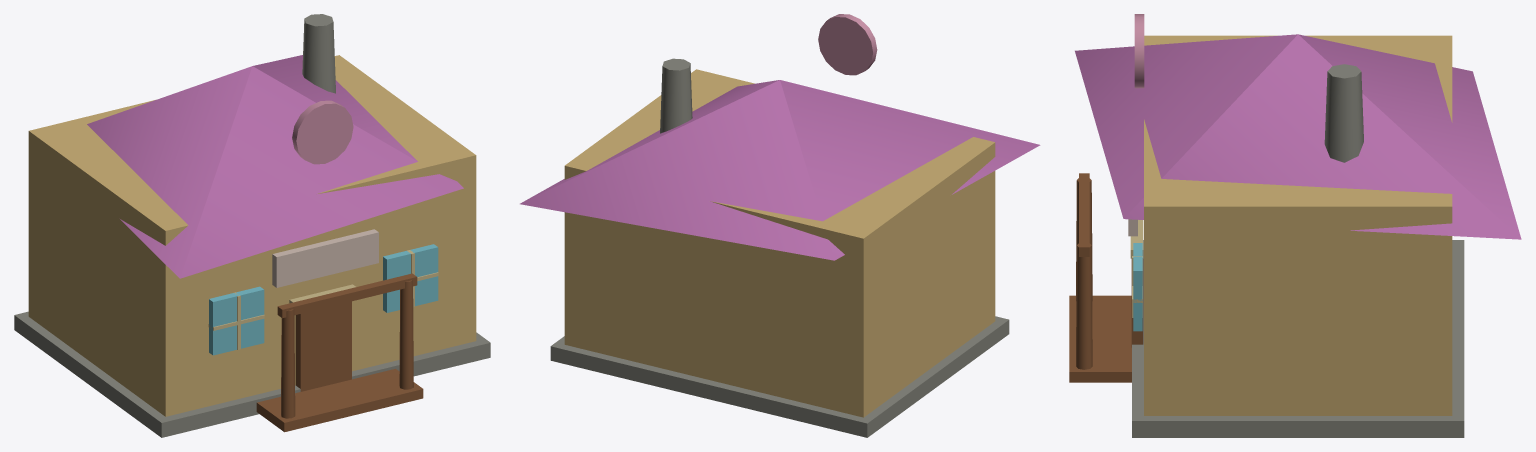
Rendered from town_hall.glb.
3 renders of one model, left to right at view 1: azimuth 30°, elevation 25°; view 2: azimuth 150°, elevation 25°; view 3: azimuth 270°, elevation 25°, orthographic. The views are drawn at different scales.
Visible parts, largest first — view 1: town_hall_body, town_hall_roof, town_hall_foundation, porch, door, sign, clock_or_emblem, window_left, window_right, chimney, porch_beam, porch_post_145 (+1 smaller); view 2: town_hall_body, town_hall_roof, town_hall_foundation, clock_or_emblem, chimney; view 3: town_hall_body, town_hall_roof, town_hall_foundation, porch, chimney, porch_post_145, porch_beam, window_right, clock_or_emblem, porch_post_-145.
Part boxes in pixels (x1=…): town_hall_body: x1=28, y1=55, x2=476, y2=416; town_hall_roof: x1=87, y1=55, x2=463, y2=278; town_hall_foundation: x1=14, y1=311, x2=490, y2=437; porch: x1=256, y1=368, x2=423, y2=432; door: x1=295, y1=301, x2=351, y2=391; sign: x1=272, y1=229, x2=378, y2=287; clock_or_emblem: x1=292, y1=100, x2=353, y2=164; window_left: x1=209, y1=286, x2=264, y2=355; window_right: x1=383, y1=244, x2=438, y2=312; chimney: x1=302, y1=14, x2=335, y2=93; porch_beam: x1=277, y1=273, x2=417, y2=318; porch_post_145: x1=399, y1=280, x2=413, y2=389; town_hall_body: x1=564, y1=69, x2=995, y2=417; town_hall_roof: x1=520, y1=80, x2=1040, y2=260; town_hall_foundation: x1=550, y1=316, x2=1009, y2=437; clock_or_emblem: x1=818, y1=14, x2=877, y2=75; chimney: x1=660, y1=58, x2=692, y2=133; town_hall_body: x1=1144, y1=35, x2=1452, y2=415; town_hall_roof: x1=1075, y1=34, x2=1521, y2=239; town_hall_foundation: x1=1132, y1=240, x2=1464, y2=437; porch: x1=1069, y1=295, x2=1131, y2=382; chimney: x1=1324, y1=64, x2=1363, y2=162; porch_post_145: x1=1076, y1=243, x2=1092, y2=369; porch_beam: x1=1079, y1=173, x2=1089, y2=256; window_right: x1=1133, y1=243, x2=1142, y2=331; clock_or_emblem: x1=1134, y1=14, x2=1144, y2=88; porch_post_-145: x1=1076, y1=178, x2=1092, y2=300.
Size of what is drawn, in the model's own units: 8.4 by 6.85 by 8.5.
